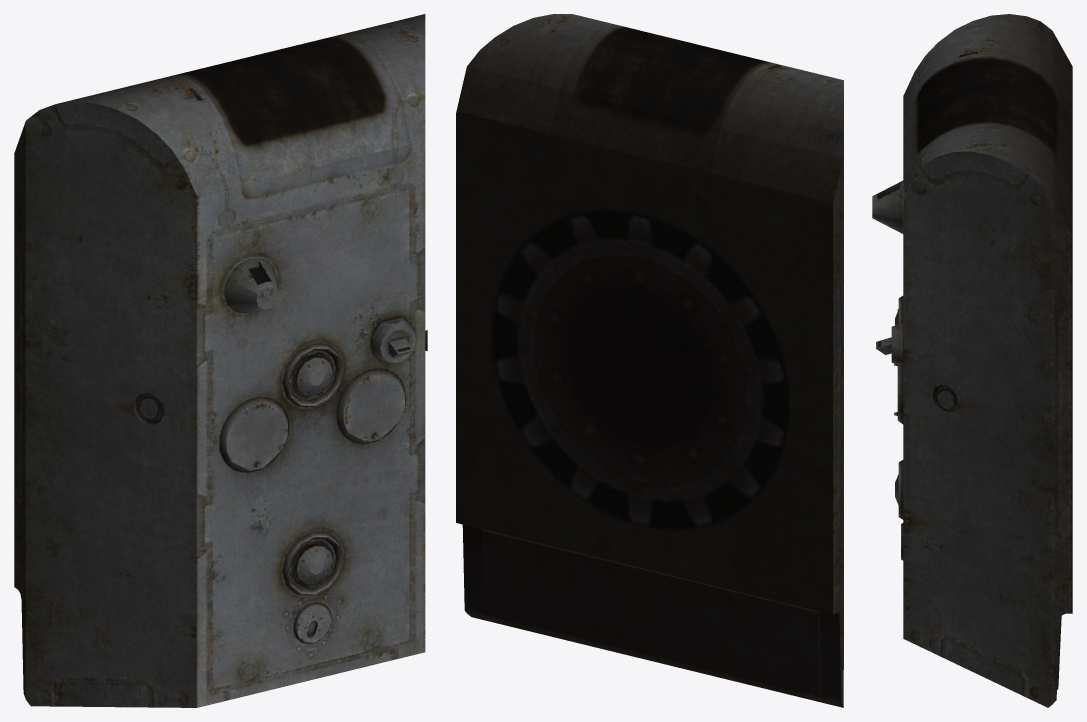
Rendered from Turret_maus.obj.
3 views of the same model, side by side, from view 1: azimuth 30°, elevation 25°; view 2: azimuth 150°, elevation 25°; view 3: azimuth 270°, elevation 25° (orthographic). The views are drawn at different scales.
Visible parts, largest first — view 1: 3D_Object_1; view 2: 3D_Object_1; view 3: 3D_Object_1.
Boxes of the visible parts, x1,y1,x2,y2 form: 3D_Object_1: (14,14,427,707); 3D_Object_1: (456,14,843,707); 3D_Object_1: (872,14,1072,707).
Size of the model in its own units: 3.06 by 4.54 by 1.53.
1 material, 1 textured.
